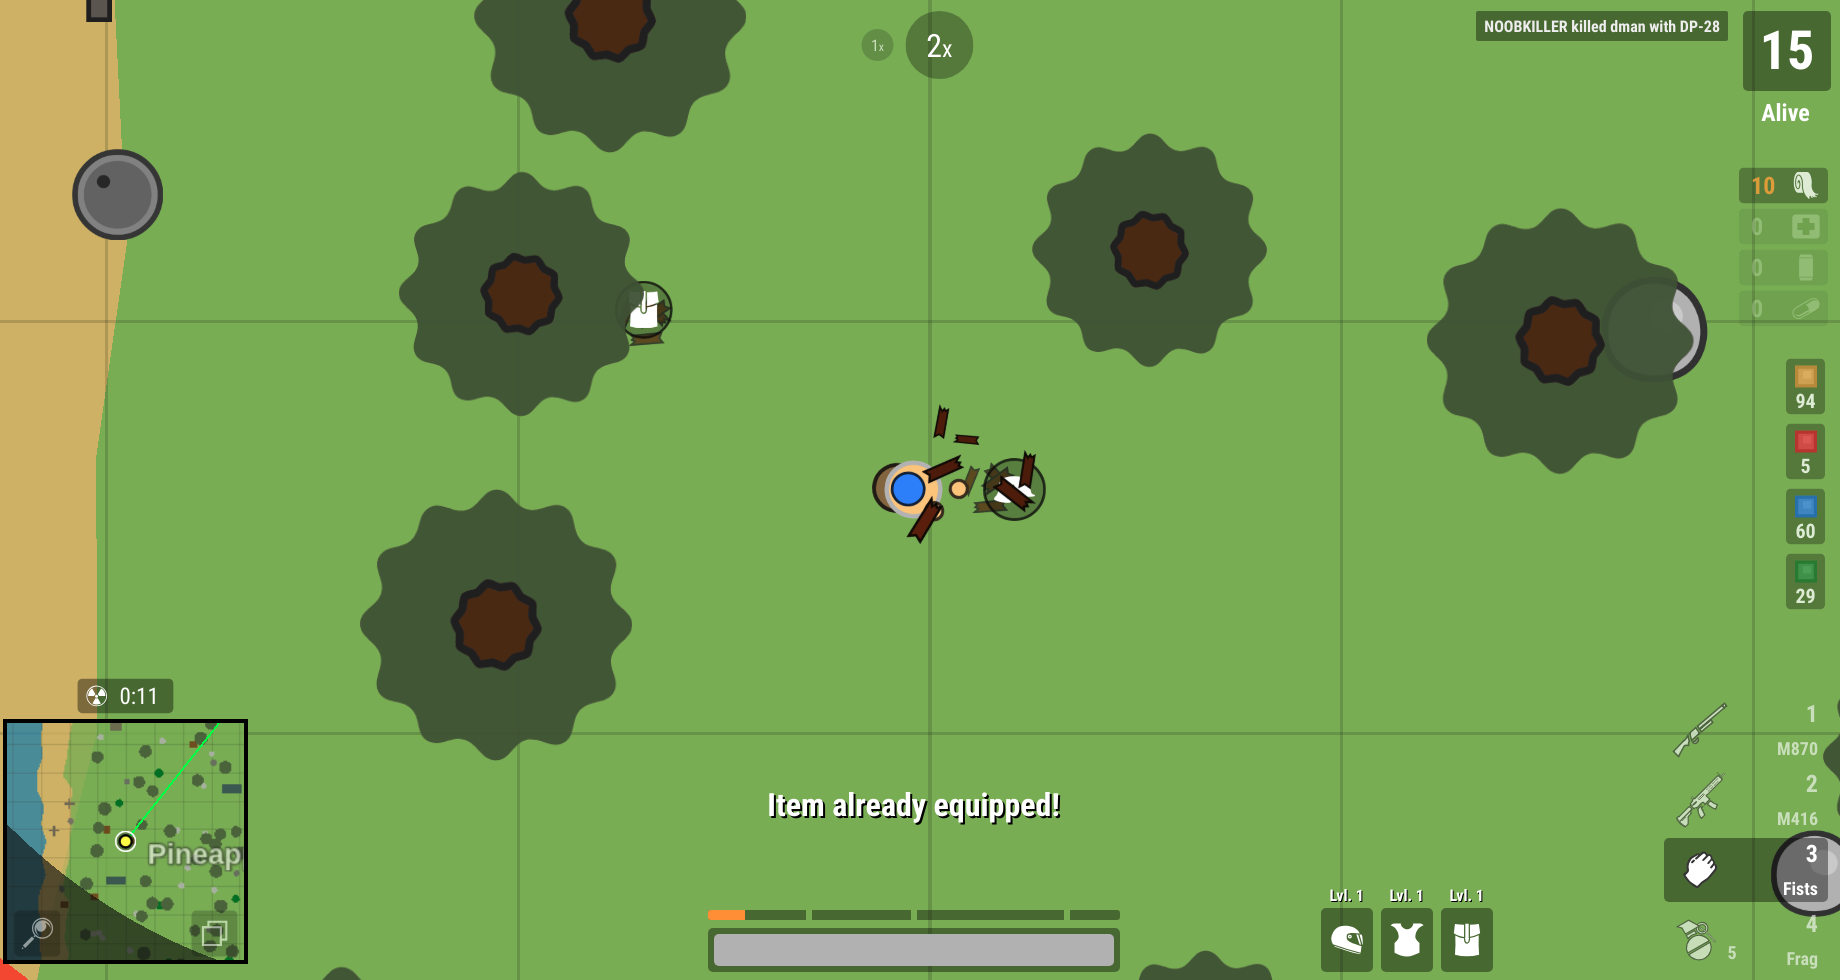Player: (861, 445, 977, 543)
